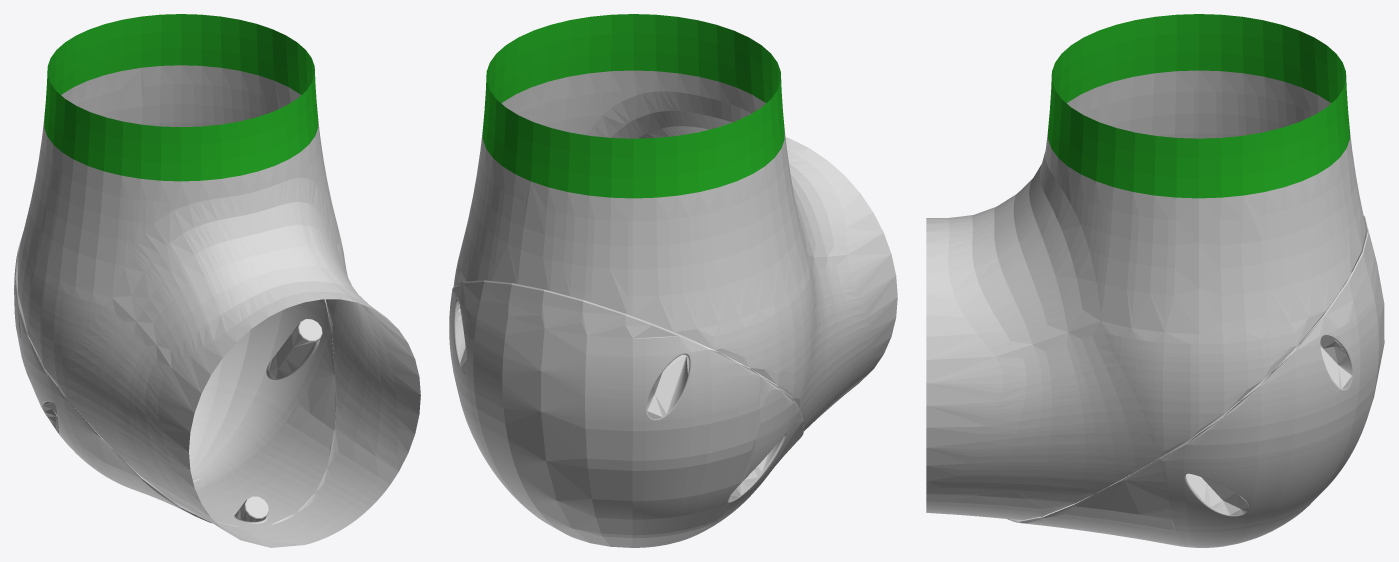
3 views of the same model, side by side, from view 1: azimuth 30°, elevation 25°; view 2: azimuth 150°, elevation 25°; view 3: azimuth 270°, elevation 25° (orthographic). The views are drawn at different scales.
Visible parts, largest first — view 1: node; view 2: node; view 3: node.
Part boxes in pixels (x1,y1,x2,y2): node: (14, 14, 420, 547); node: (449, 14, 897, 547); node: (926, 14, 1384, 547).
Bounding box in the file's own units: 114 × 158 × 143.
